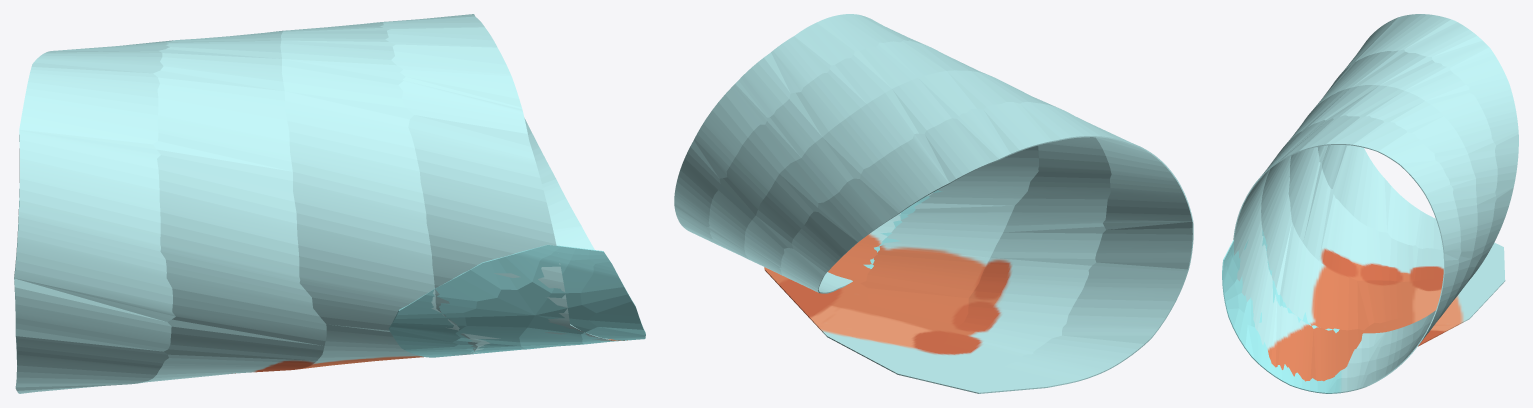
The model's file is Level 111 Roll elephant trunk.fbx.
3 views of the same model, side by side, from view 1: azimuth 30°, elevation 25°; view 2: azimuth 150°, elevation 25°; view 3: azimuth 270°, elevation 25° (orthographic). The views are drawn at different scales.
Parts seen in each view (by area): view 1: Blend; view 2: Blend; view 3: Blend.
Part boxes in pixels (left/top/right/bottom): Blend: left=14, top=14, right=645, bottom=393; Blend: left=674, top=14, right=1193, bottom=393; Blend: left=1222, top=14, right=1518, bottom=393.
Size of what is drawn, in the model's own units: 460 by 222 by 288.
